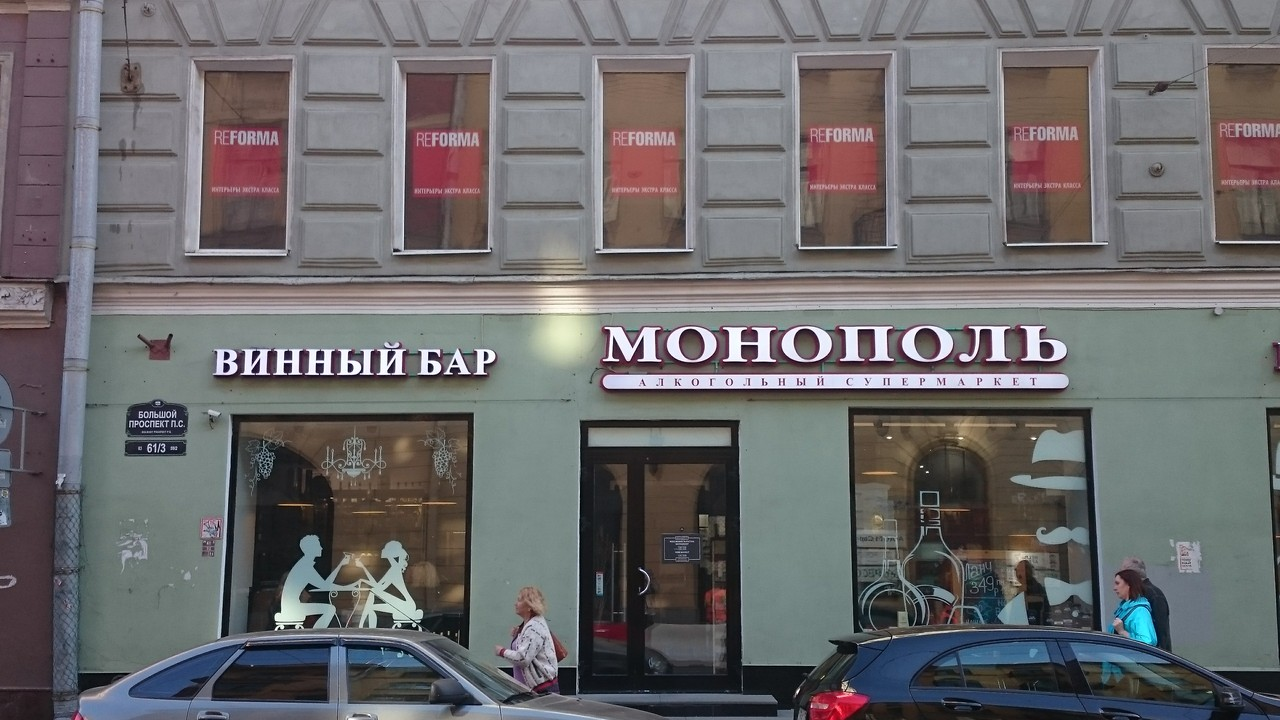door: (631, 452, 740, 689)
signboard: (604, 324, 1070, 392), (212, 348, 496, 380)
window: (849, 410, 1097, 630), (233, 418, 467, 650), (190, 65, 289, 255), (597, 62, 693, 252), (1003, 50, 1095, 246), (396, 62, 490, 253), (797, 59, 891, 244), (1207, 56, 1280, 240)
